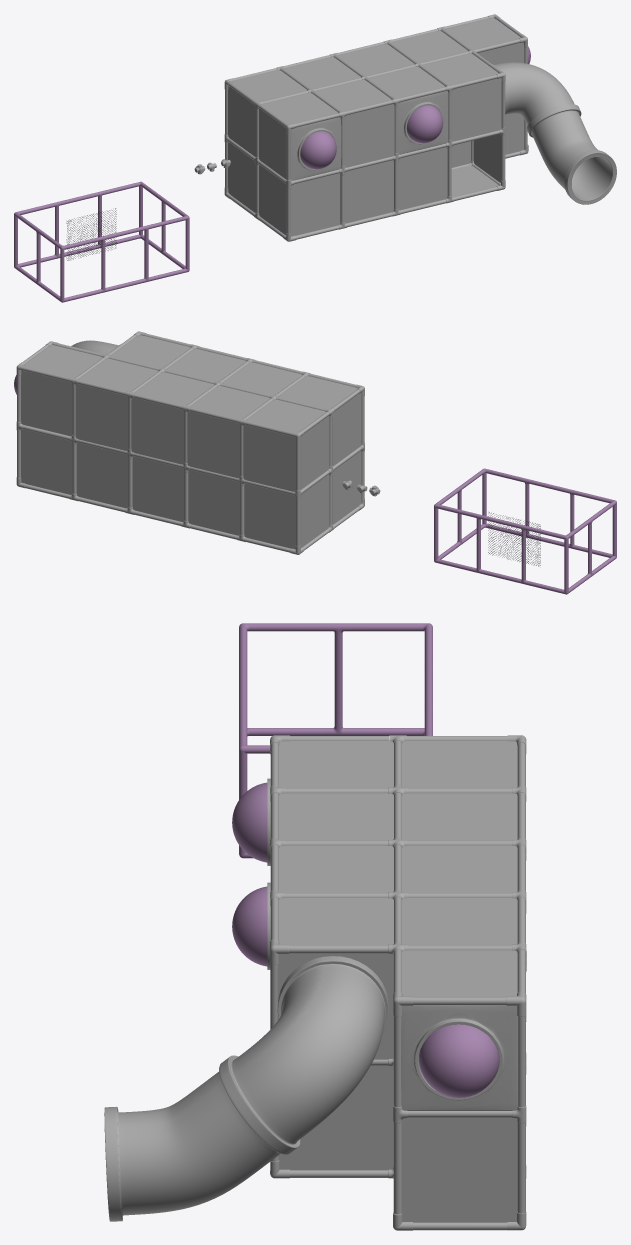
Rendered from JungleGym.fbx.
3 renders of one model, top to bottom at view 1: azimuth 30°, elevation 25°; view 2: azimuth 150°, elevation 25°; view 3: azimuth 270°, elevation 25°, orthographic. The views are drawn at different scales.
Visible parts, largest first — view 1: polySurface123, polySurface34, pCube29, pCube27, pPlane17, pPlane18, pPlane19, pCube38, pCube37, pCube35, pCube36, pPlane35 (+18 smaller); view 2: polySurface34, pCube33, pCube34, pCube31, pCube32, pPlane28, pPlane29, pPlane76, pPlane30, pPlane71, pPlane31, pCube35 (+14 smaller); view 3: polySurface123, pPlane72, pCube39, pPlane73, polySurface34, pPlane43, pPlane41, pPlane44, pPlane47, pPlane42, pPlane46, pPlane45 (+11 smaller).
Boxes of the visible parts, <box> form: polySurface123: <box>492,62,616,204</box>; polySurface34: <box>14,181,189,302</box>; pCube29: <box>344,104,394,167</box>; pCube27: <box>451,78,501,141</box>; pPlane17: <box>398,147,447,210</box>; pPlane18: <box>344,160,393,223</box>; pPlane19: <box>291,173,340,236</box>; pCube38: <box>398,91,448,154</box>; pCube37: <box>291,117,341,180</box>; pCube35: <box>259,108,286,179</box>; pCube36: <box>228,86,255,156</box>; pPlane35: <box>259,164,286,234</box>; polySurface34: <box>434,468,616,594</box>; pCube33: <box>131,397,184,464</box>; pCube34: <box>75,384,128,450</box>; pCube31: <box>243,425,295,491</box>; pCube32: <box>187,411,239,477</box>; pPlane28: <box>76,442,128,508</box>; pPlane29: <box>132,456,184,521</box>; pPlane76: <box>21,370,72,436</box>; pPlane30: <box>188,470,239,535</box>; pPlane71: <box>21,429,72,494</box>; pPlane31: <box>244,483,295,549</box>; pCube35: <box>332,392,361,466</box>; polySurface123: <box>104,956,388,1221</box>; pPlane72: <box>402,1117,517,1222</box>; pCube39: <box>401,1005,518,1110</box>; pPlane73: <box>279,1065,393,1170</box>; polySurface34: <box>239,623,432,858</box>; pPlane43: <box>402,845,517,892</box>; pPlane41: <box>402,898,517,945</box>; pPlane44: <box>402,793,517,840</box>; pPlane47: <box>402,741,517,788</box>; pPlane42: <box>279,845,393,892</box>; pPlane46: <box>279,741,393,788</box>; pPlane45: <box>279,793,393,840</box>.
Bounding box in the file's own units: 292 × 62.39 × 102.
